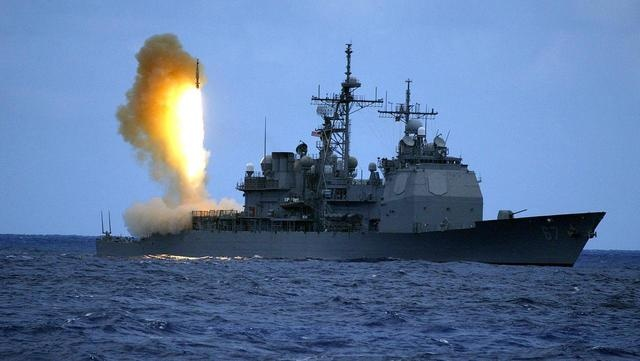warship: (92, 49, 600, 265)
